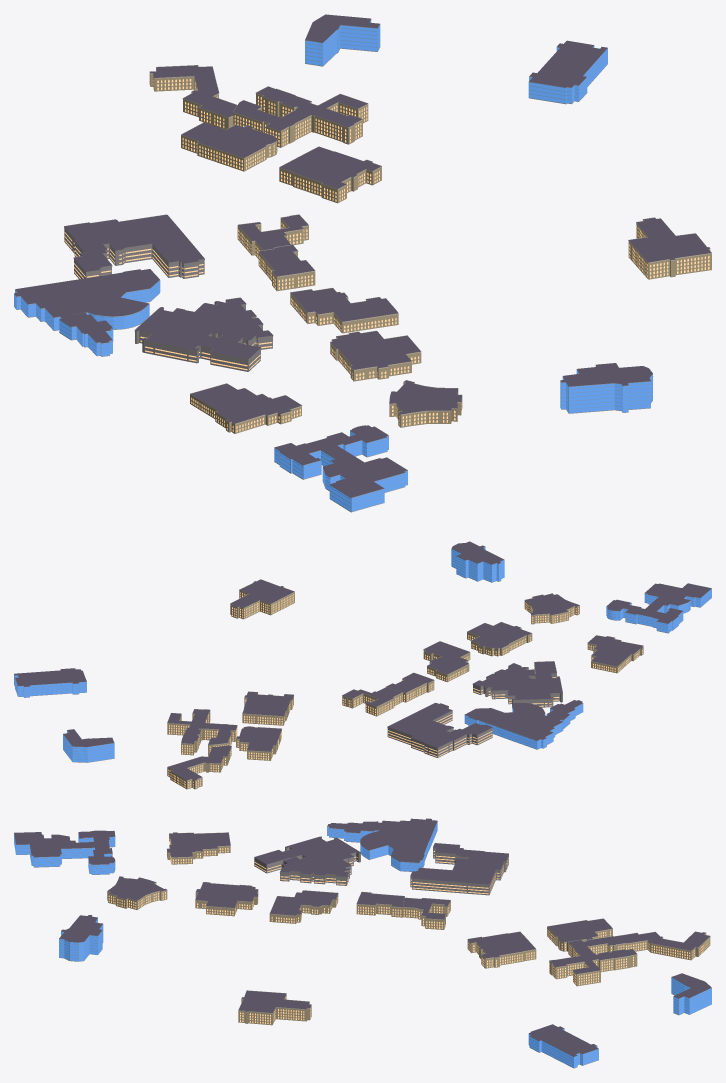
File: campus-core.glb
3 views of the same model, one above another, from view 1: azimuth 30°, elevation 25°; view 2: azimuth 150°, elevation 25°; view 3: azimuth 270°, elevation 25° (orthographic). The views are drawn at different scales.
Visible parts, largest first — view 1: campus-core-11, campus-core-18, campus-core-12, campus-core-13, campus-core-7, campus-core-15, campus-core-0, campus-core-5, campus-core-10, campus-core-3, campus-core-14, campus-core-8 (+7 smaller); view 2: campus-core-12, campus-core-18, campus-core-11, campus-core-13, campus-core-7, campus-core-14, campus-core-0, campus-core-15, campus-core-3, campus-core-6, campus-core-10, campus-core-5 (+7 smaller); view 3: campus-core-11, campus-core-12, campus-core-18, campus-core-13, campus-core-7, campus-core-0, campus-core-14, campus-core-5, campus-core-3, campus-core-6, campus-core-10, campus-core-8 (+7 smaller).
Boxes of the visible parts, box(x1,y1,x2,y2) form: campus-core-11: box(134, 297, 273, 371); campus-core-18: box(274, 425, 407, 512); campus-core-12: box(64, 214, 204, 279); campus-core-13: box(14, 269, 160, 330); campus-core-7: box(233, 86, 368, 147); campus-core-15: box(560, 363, 653, 413); campus-core-0: box(628, 217, 711, 279); campus-core-5: box(279, 146, 381, 203); campus-core-10: box(190, 383, 302, 433); campus-core-3: box(330, 330, 421, 381); campus-core-14: box(528, 40, 607, 104); campus-core-8: box(290, 287, 398, 333); campus-core-12: box(387, 702, 492, 757); campus-core-18: box(606, 583, 711, 633); campus-core-11: box(472, 661, 562, 707); campus-core-13: box(464, 703, 563, 749); campus-core-7: box(167, 709, 237, 755); campus-core-14: box(14, 668, 86, 697); campus-core-0: box(230, 579, 294, 619); campus-core-15: box(451, 541, 504, 582); campus-core-3: box(467, 622, 532, 656); campus-core-6: box(167, 745, 231, 789); campus-core-10: box(587, 635, 643, 673); campus-core-5: box(242, 691, 293, 725); campus-core-11: box(254, 836, 360, 885); campus-core-12: box(410, 843, 508, 895); campus-core-18: box(14, 830, 115, 874); campus-core-13: box(360, 818, 437, 871); campus-core-7: box(549, 936, 637, 986); campus-core-0: box(238, 990, 311, 1025); campus-core-14: box(528, 1024, 598, 1068); campus-core-5: box(467, 931, 536, 968); campus-core-3: box(195, 882, 258, 916); campus-core-6: box(614, 931, 710, 960); campus-core-10: box(167, 832, 230, 864); campus-core-8: box(269, 890, 338, 923).
Size of the model in its own units: 663 by 24.8 by 814.
